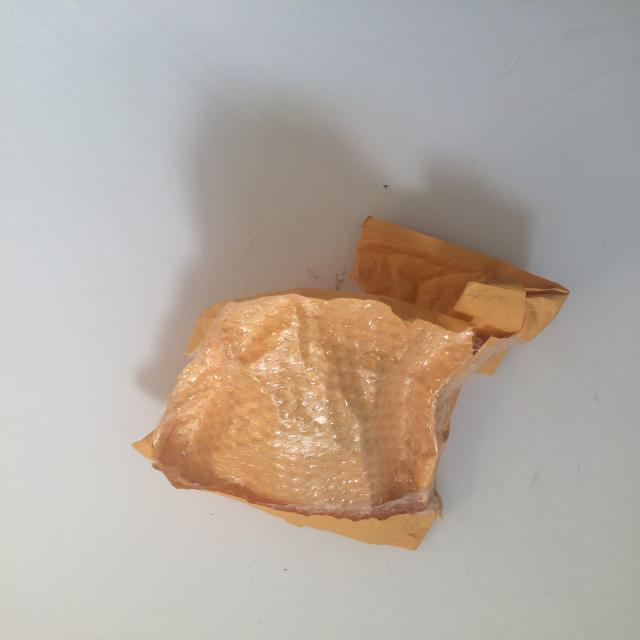trash: (162, 216, 575, 555)
